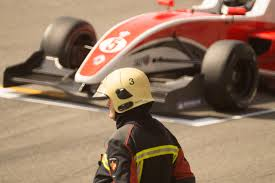FormulaOneCar: (1, 1, 275, 118)
